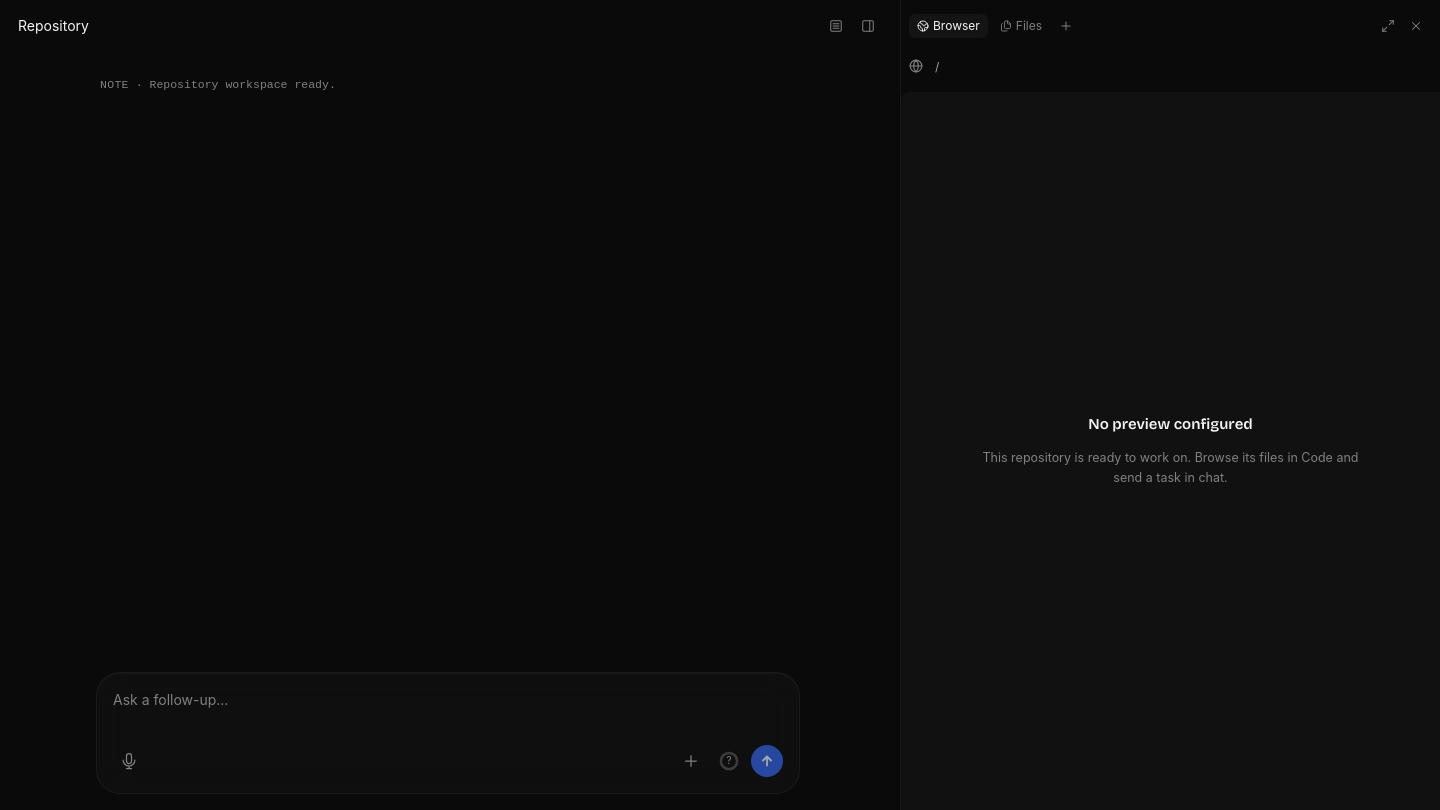
Test: opening a put-away project › restores a repository with no preview and refreshes its files from a workspace notice
Expected: the text "No preview configured" is shown, [1088, 413, 1253, 436]
Click the tab "Files": click(1021, 26) [992, 14, 1050, 38]
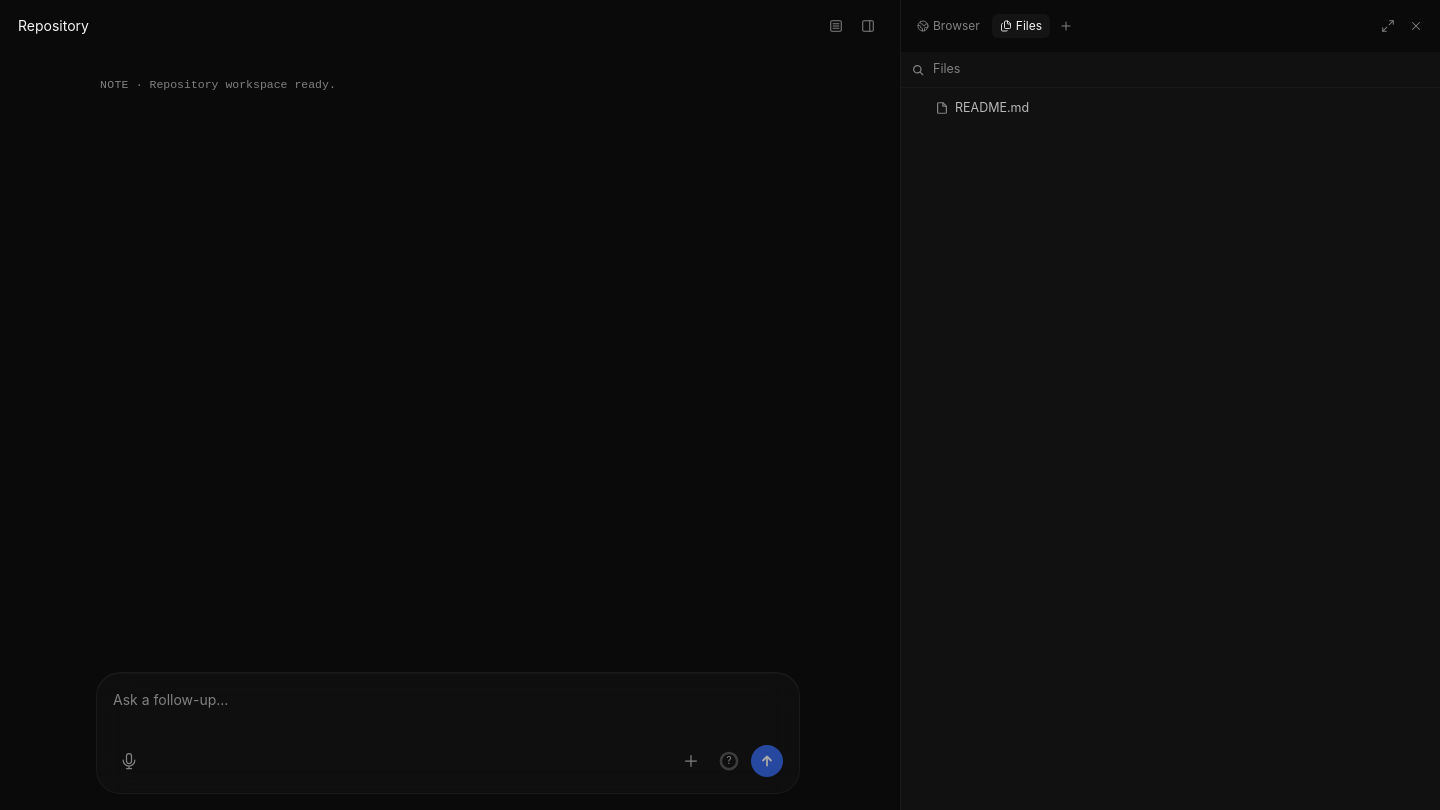
Expected: the button "README.md" is shown, [905, 94, 1436, 122]
